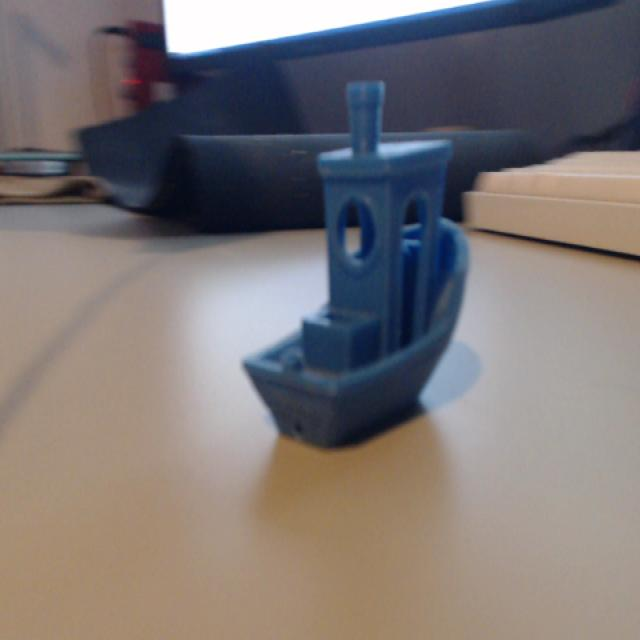benchy: (235, 68, 493, 458)
